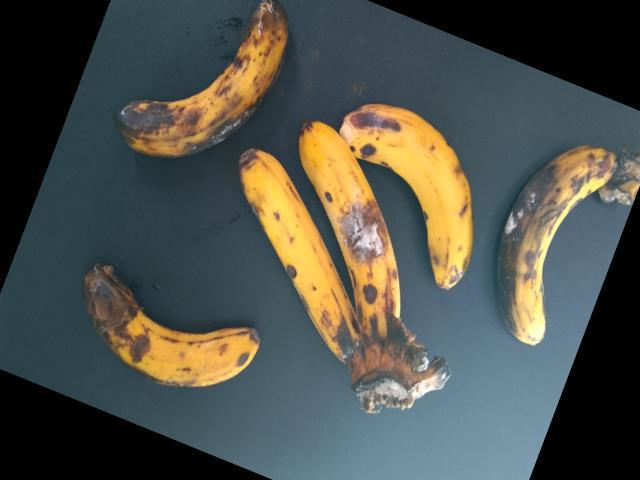overripe: (234, 152, 354, 400), (334, 85, 468, 295), (301, 119, 408, 366)
rotten: (104, 0, 309, 183), (489, 111, 625, 366), (69, 263, 292, 410)
